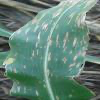Corn Gray leaf spot: (6, 1, 98, 99)
